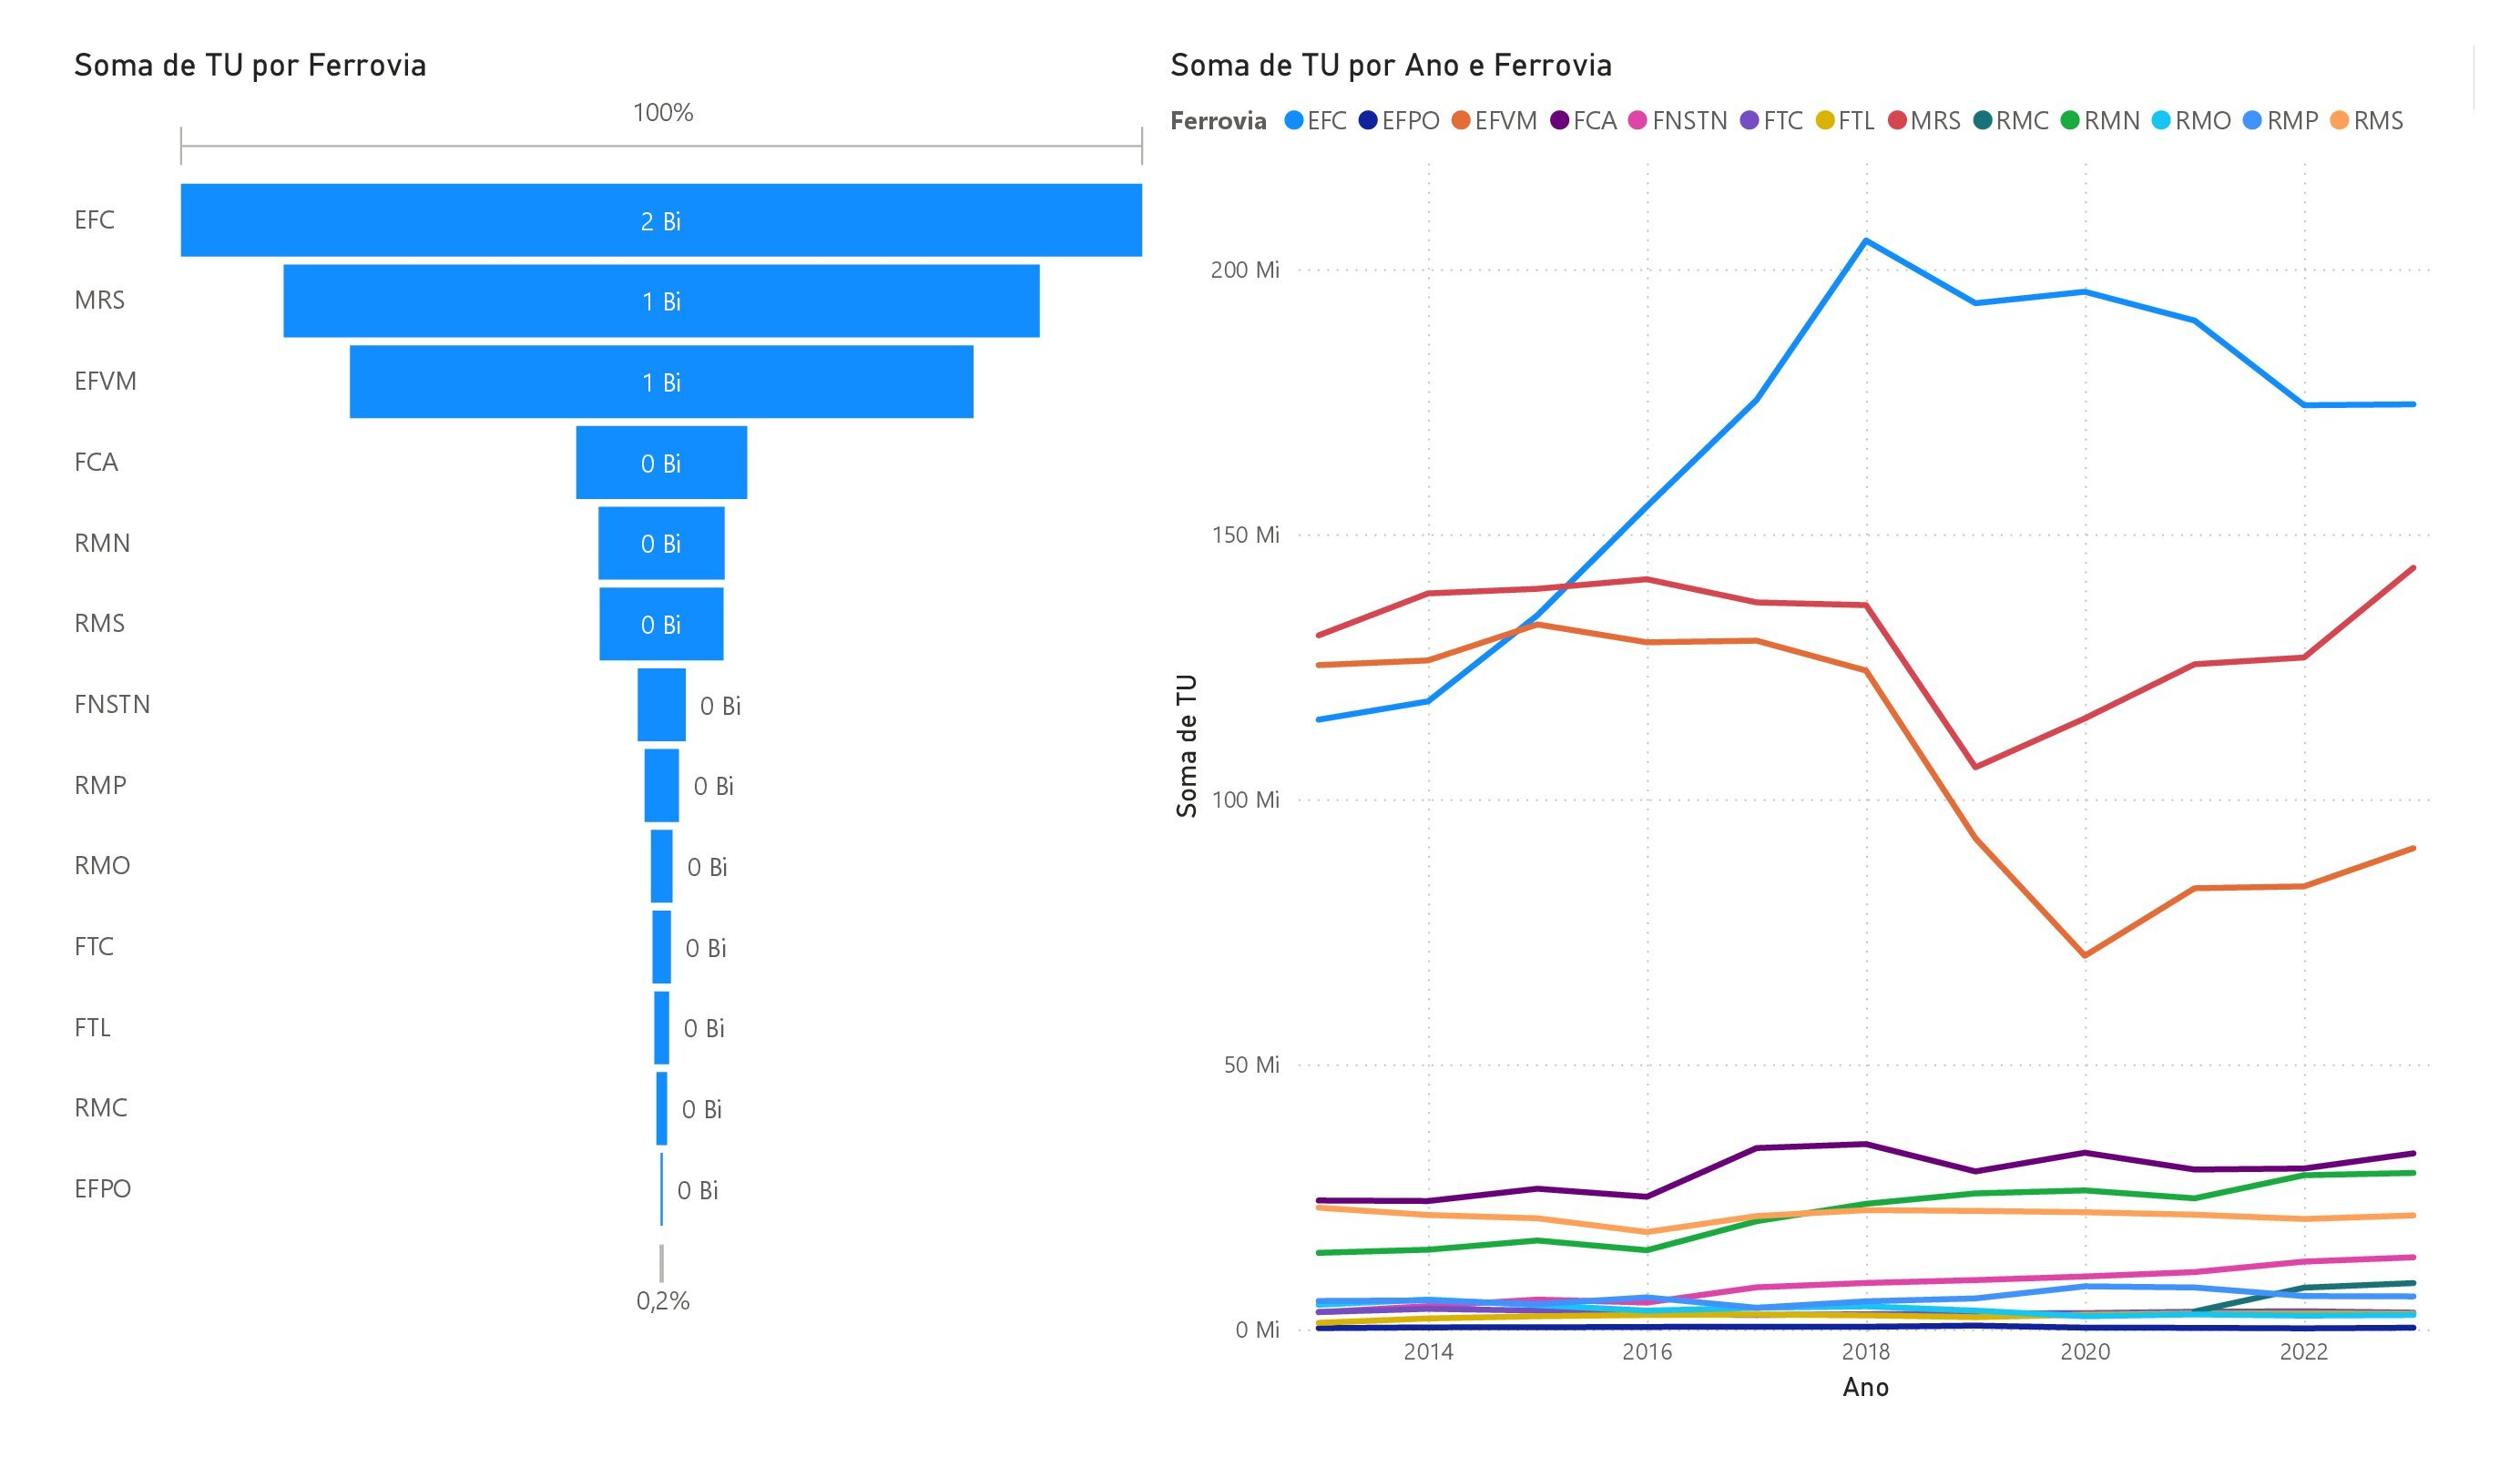

The dashboard page shown, as its layout file describes it:
{"tool":"powerbi","page":{"name":"Página 1","canvas":[1280,720],"ordinal":0},"visuals":[{"type":"funnel","fields":{"Y":["Sum(Sheet1.TU)"],"Category":["Sheet1.Ferrovia"]},"box":[10.2,0,578,676.1],"z":0},{"type":"lineChart","fields":{"Category":["Sheet1.Mes_Ano.Variation.Hierarquia de datas.Ano"],"Y":["Sum(Sheet1.TU)"],"Series":["Sheet1.Ferrovia"]},"box":[588.3,0,677.6,720],"z":1}]}

Visuals, with their boxes on the page's 1280x720 design canvas (x1, y1, x2, y2). These are canvas units, not pixel positions in the 2520x1457 screenshot, which may show the page scaled, cropped or inside an application window:
funnel - Sum(Sheet1.TU) x Sheet1.Ferrovia: Rect(10, 0, 588, 676)
lineChart - Sheet1.Mes_Ano.Variation.Hierarquia de datas.Ano x Sum(Sheet1.TU): Rect(588, 0, 1266, 720)
